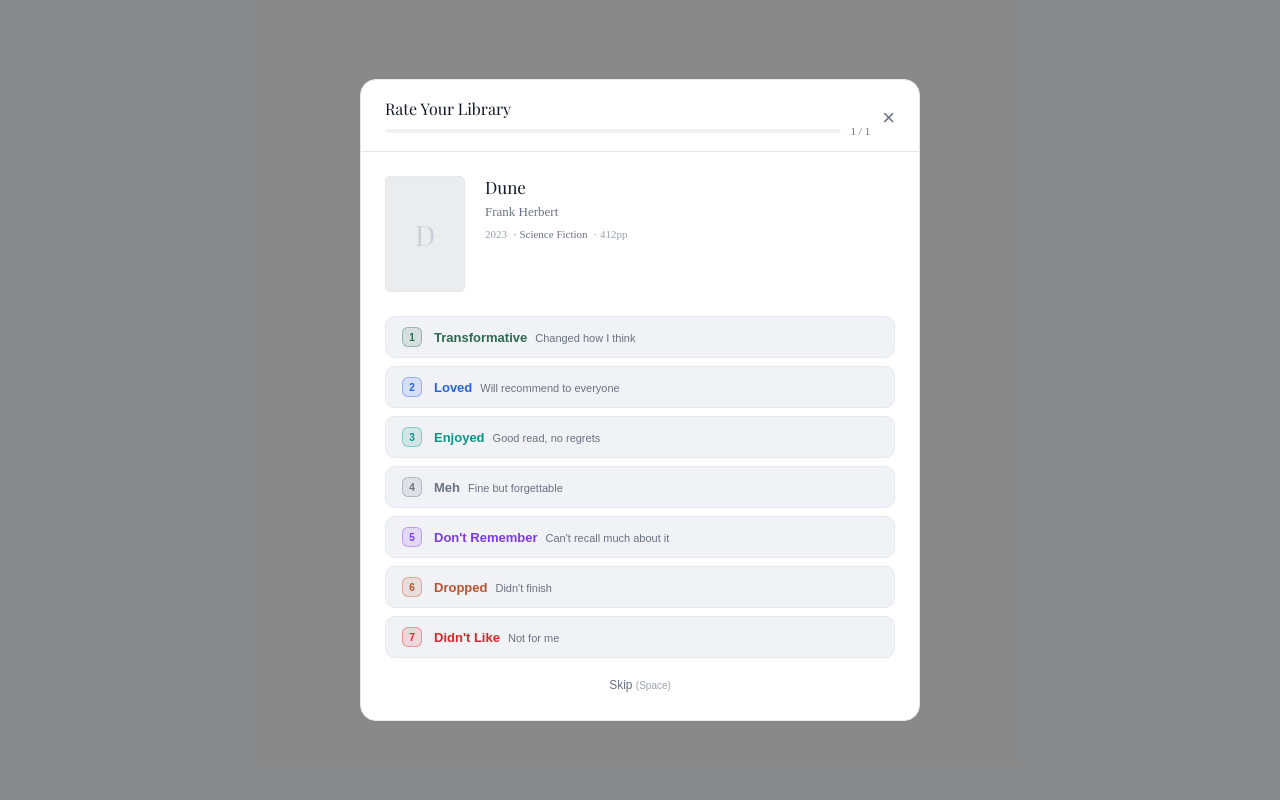
Test case: RatingFlashcard › shows "All done!" with rated count after exhausting the queue
What coordinates should you click on to do the following:
click the button "Loved"
I would click on:
 (453, 387)
Its box is [385, 366, 895, 408].
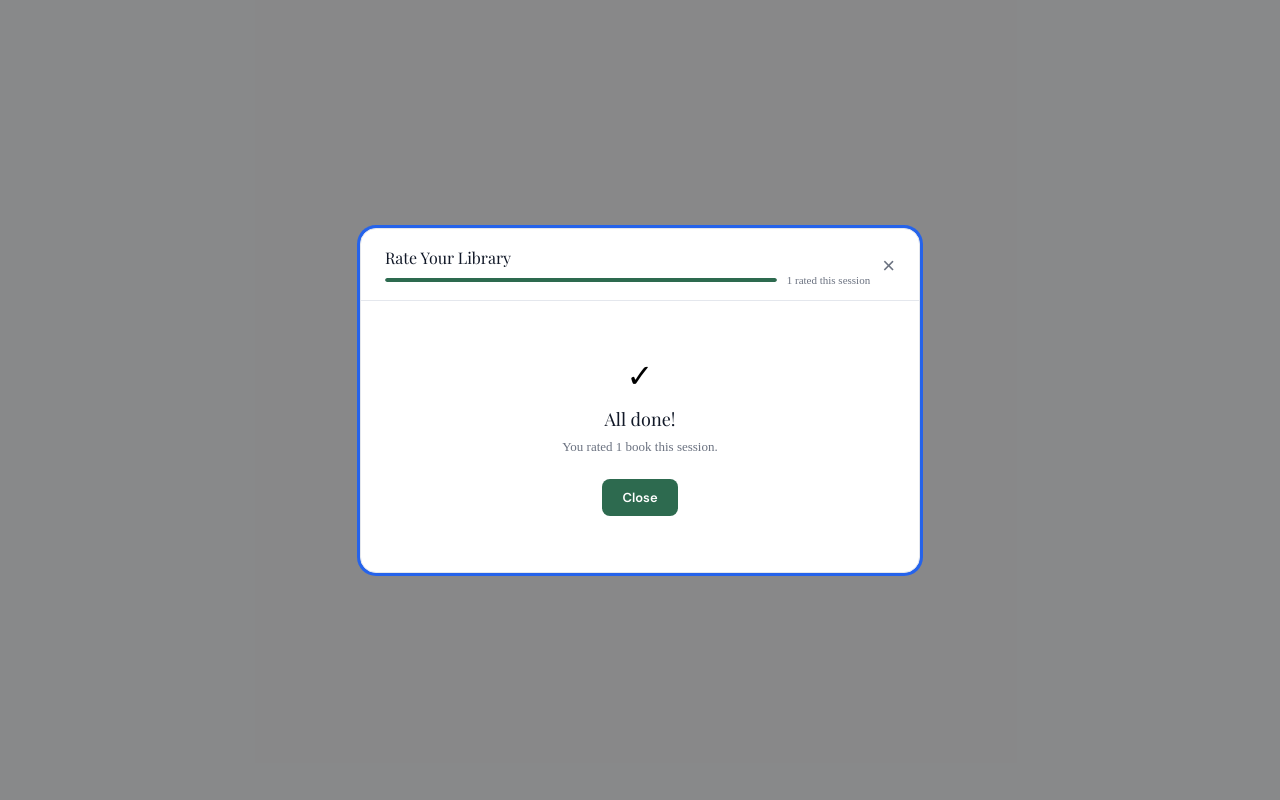
Result: the text "All done!" is shown at [604, 406, 676, 430]
Result: the text "You rated 1 book this session." is shown at [562, 438, 718, 454]
